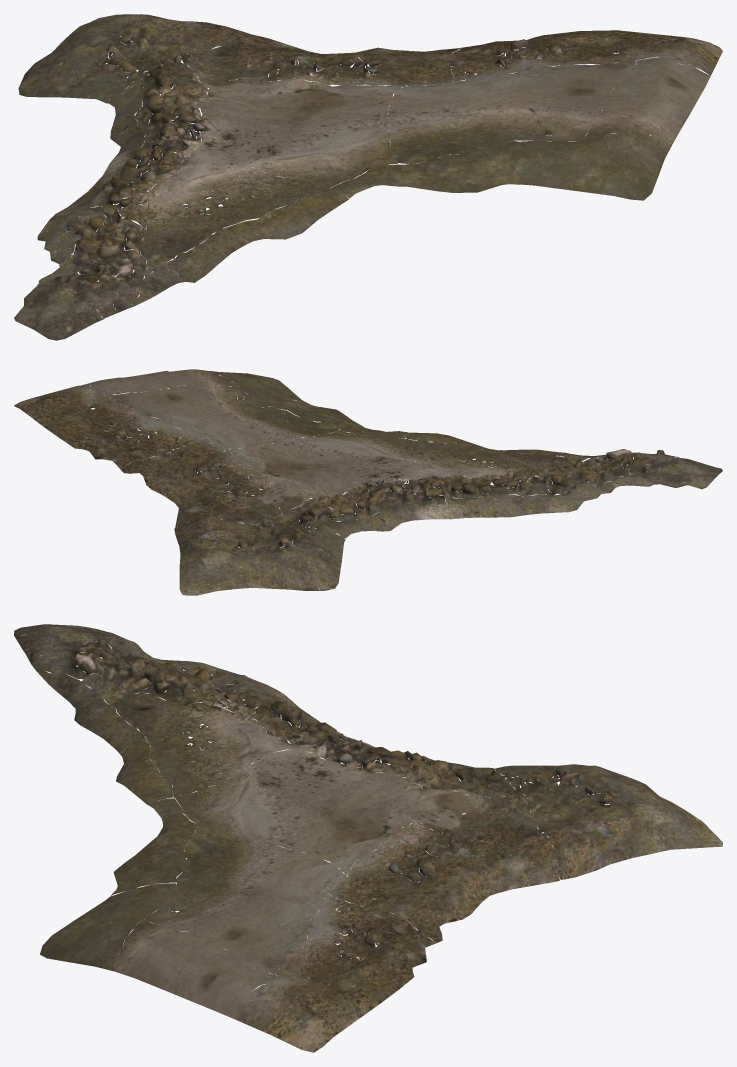
Rendered from ph_coast_rocks_01.glb.
The picture shows the model from 3 angles, top to bottom: view 1: azimuth 30°, elevation 25°; view 2: azimuth 150°, elevation 25°; view 3: azimuth 270°, elevation 25°; orthographic projection. The views are drawn at different scales.
Parts seen in each view (by area): view 1: coast_rocks_01; view 2: coast_rocks_01; view 3: coast_rocks_01.
Part boxes in pixels (x1,y1,x2,y2): coast_rocks_01: (14,14,722,340); coast_rocks_01: (14,369,722,595); coast_rocks_01: (14,624,722,1052).
Size of the model in its own units: 59.51 by 3.27 by 42.53.
1 material, 1 textured.
